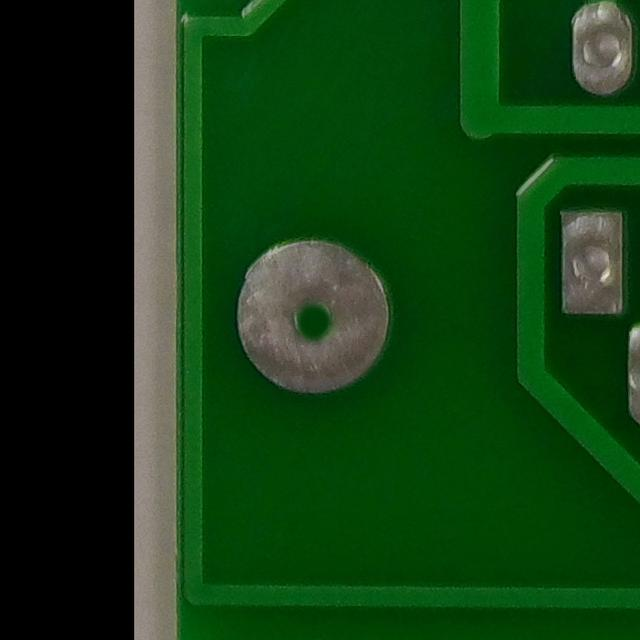missing_hole: (250, 250, 389, 390)
